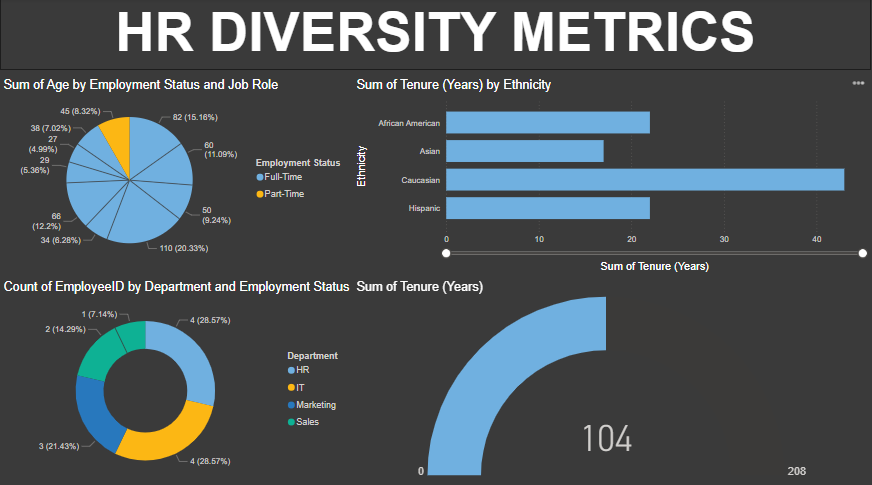

Layout of this report page (visuals, bound fields, positions):
{"tool":"powerbi","page":{"name":"Page 1","canvas":[1280,720],"ordinal":0},"visuals":[{"type":"donutChart","fields":{"Y":["CountNonNull(Sheet1.EmployeeID)"],"Category":["Sheet1.Department"],"Series":["Sheet1.Employment Status"]},"box":[0,413.2,519.1,307.4],"z":0},{"type":"pieChart","fields":{"Category":["Sheet1.Employment Status","Sheet1.Department","Sheet1.Ethnicity","Sheet1.Gender"],"Y":["Sum(Sheet1.Age)"],"Series":["Sheet1.Job Role"]},"box":[0,116.1,518.7,282.1],"z":1000},{"type":"barChart","fields":{"Category":["Sheet1.Ethnicity","Sheet1.Hire Date.Variation.Date Hierarchy.Year","Sheet1.Hire Date.Variation.Date Hierarchy.Quarter","Sheet1.Hire Date.Variation.Date Hierarchy.Month","Sheet1.Hire Date.Variation.Date Hierarchy.Day"],"Y":["Sum(Sheet1.Tenure (Years))"]},"box":[518.7,116.1,761.1,290.9],"z":2000},{"type":"gauge","fields":{"Y":["Sum(Sheet1.Tenure (Years))"]},"box":[518.7,412.9,761.1,298.3],"z":3000},{"type":"textbox","box":[0,0,1279.8,105.8],"z":4000}]}

Visuals, with their boxes in screenshot pixels (x1, y1, x2, y2), scaled from the page's 1280x720 canvas onto the 872x485 screenshot:
donutChart - CountNonNull(Sheet1.EmployeeID) x Sheet1.Department: <box>0,278,354,484</box>
pieChart - Sheet1.Employment Status x Sheet1.Department: <box>0,78,353,268</box>
barChart - Sheet1.Ethnicity x Sheet1.Hire Date.Variation.Date Hierarchy.Year: <box>353,78,871,274</box>
gauge - Sum(Sheet1.Tenure (Years)): <box>353,278,871,479</box>
textbox: <box>0,0,871,71</box>
